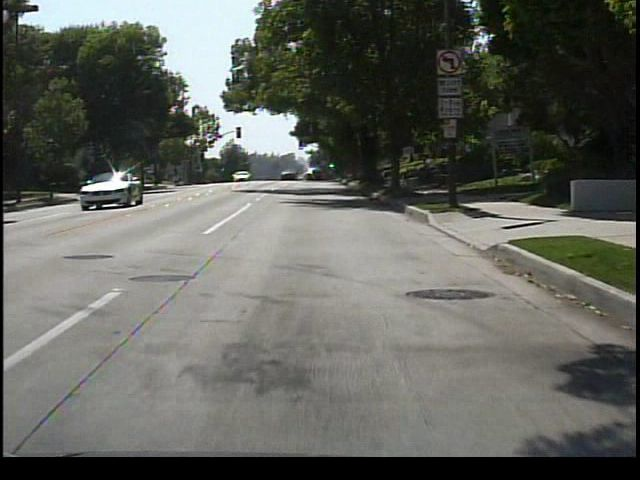person: (415, 153, 438, 189)
